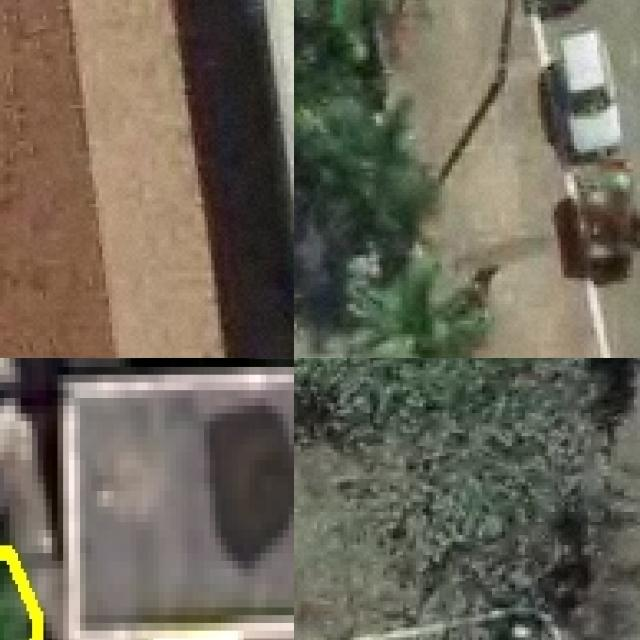trees: (295, 359, 640, 615), (295, 1, 489, 359)
